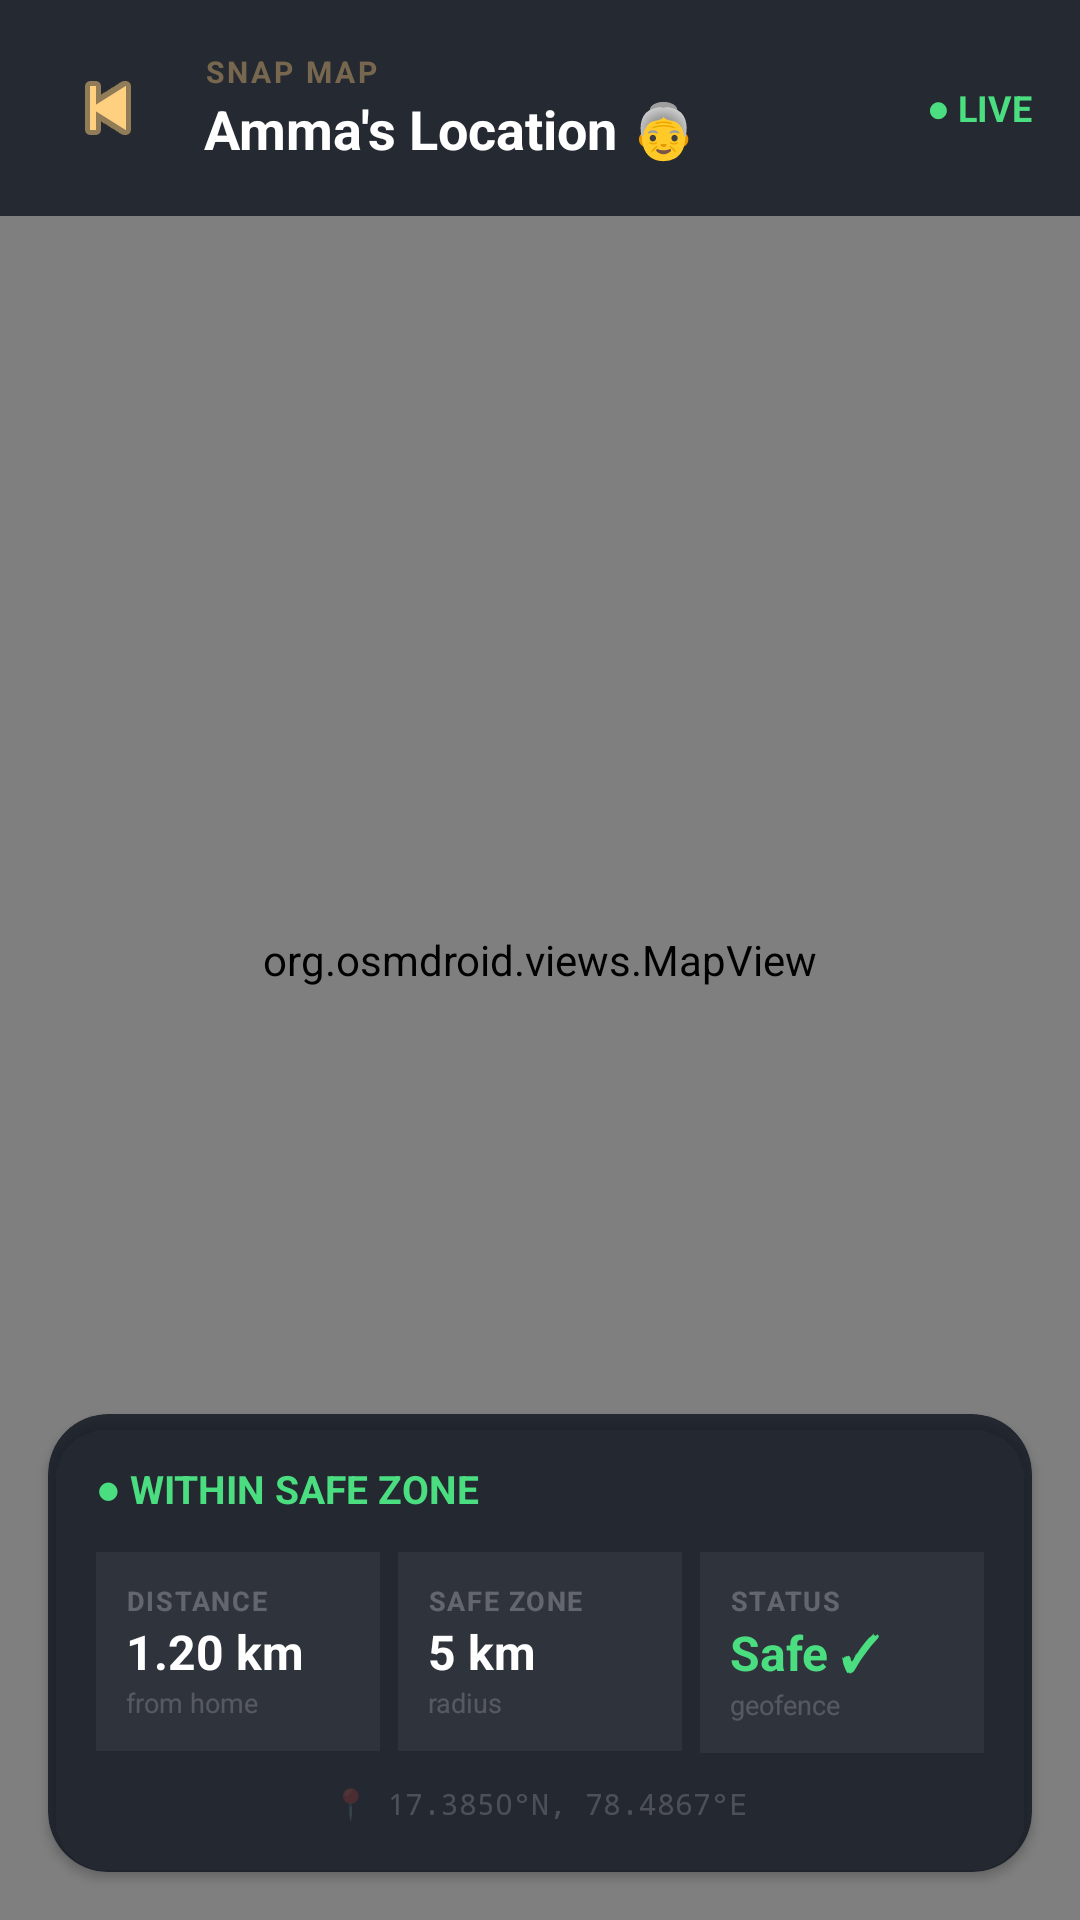

Icons on this 1080*1920 Android screen, each with its box as (x1, y1, x2, y2):
previous: (85, 81, 131, 135)
